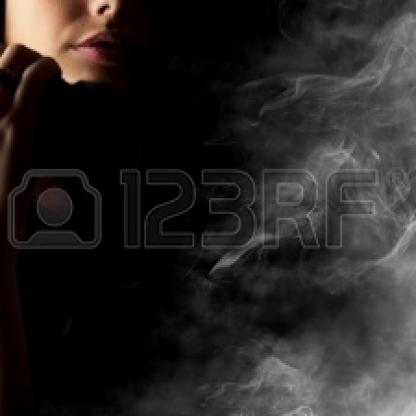gun: (0, 0, 83, 265)
